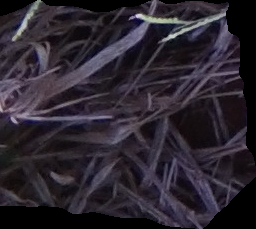soil: (1, 1, 256, 228)
